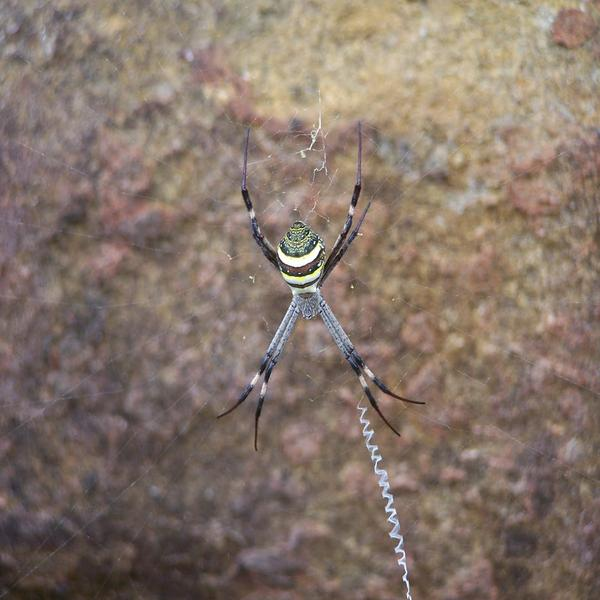St Andrew's Cross Spider: (217, 130, 430, 439)
